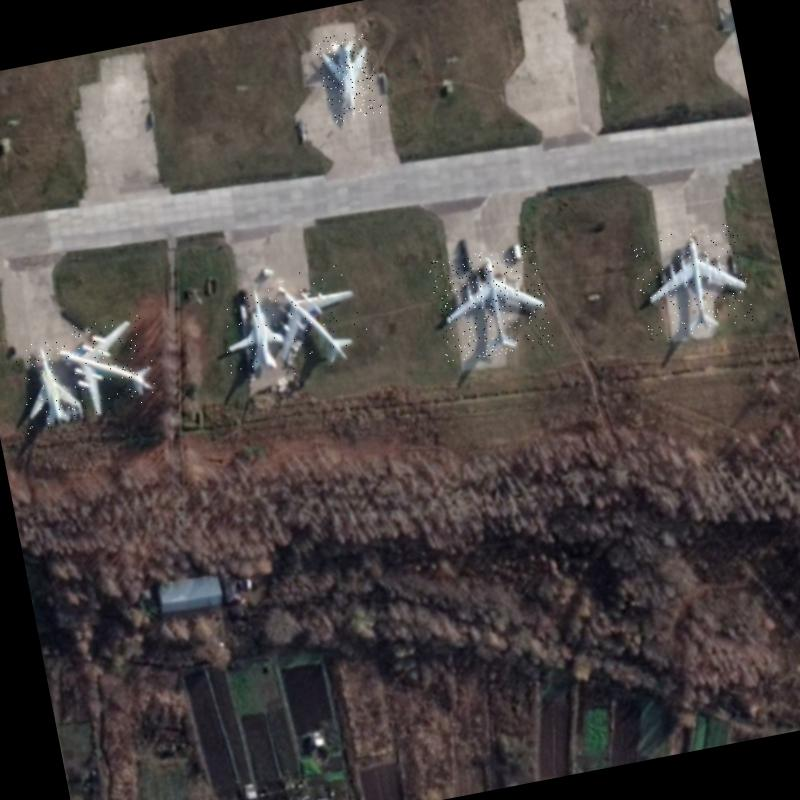A12: (10, 336, 84, 436), (212, 284, 288, 378), (314, 29, 384, 125)
A17: (427, 240, 554, 366), (630, 220, 755, 342), (257, 260, 373, 380), (51, 310, 161, 423)
